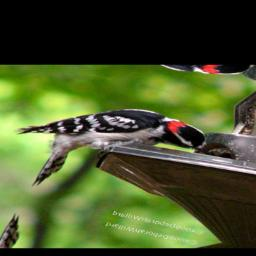Woodpecker: (0, 85, 227, 217)
